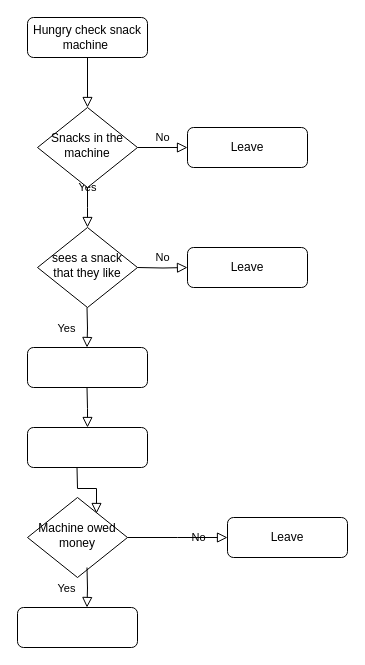
This 365x665 diagram has some shape labels left out. The centre of each missing label's shape, as x and y in pixels:
Get the owed money from machine: the point at 77,627
Get the snack: the point at 87,447
Select snacks and pay: the point at 87,367
